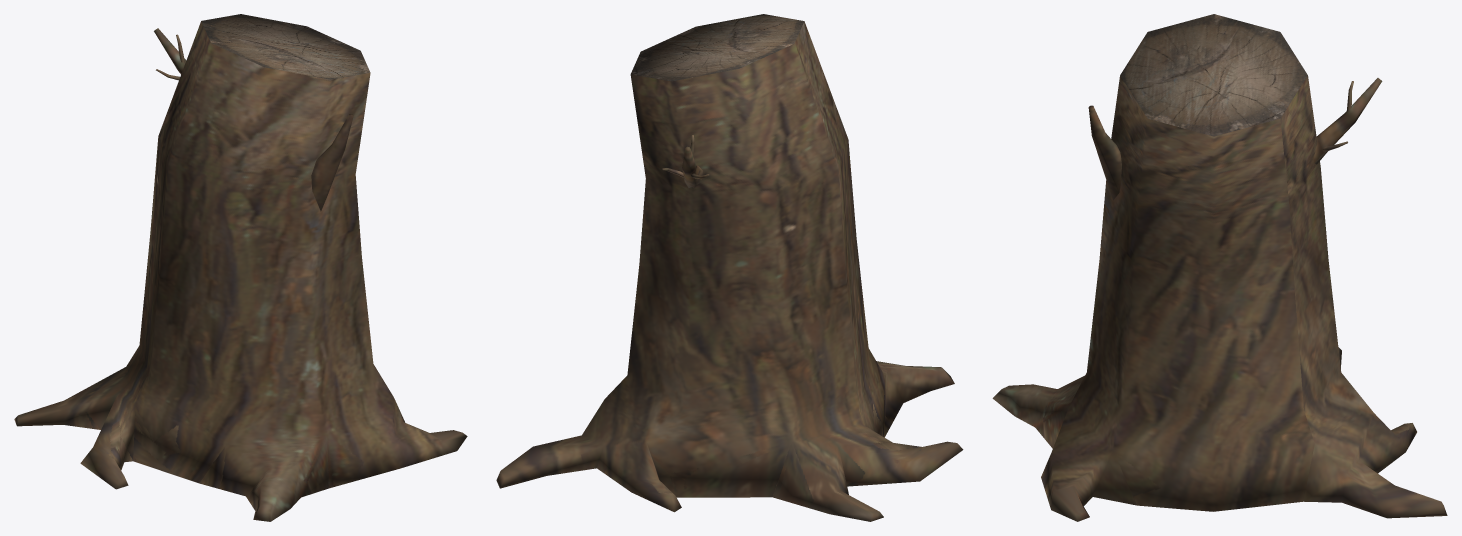
File: BaumAbgeholzt.fbx
The picture shows the model from 3 angles, left to right: view 1: azimuth 30°, elevation 25°; view 2: azimuth 150°, elevation 25°; view 3: azimuth 270°, elevation 25°; orthographic projection. The views are drawn at different scales.
Visible parts, largest first — view 1: Cylinder; view 2: Cylinder; view 3: Cylinder.
Part boxes in pixels (x1,y1,x2,y2): Cylinder: [14, 14, 467, 521]; Cylinder: [496, 14, 963, 521]; Cylinder: [992, 14, 1447, 521].
Size of the model in its own units: 80.72 by 93.38 by 91.54.
